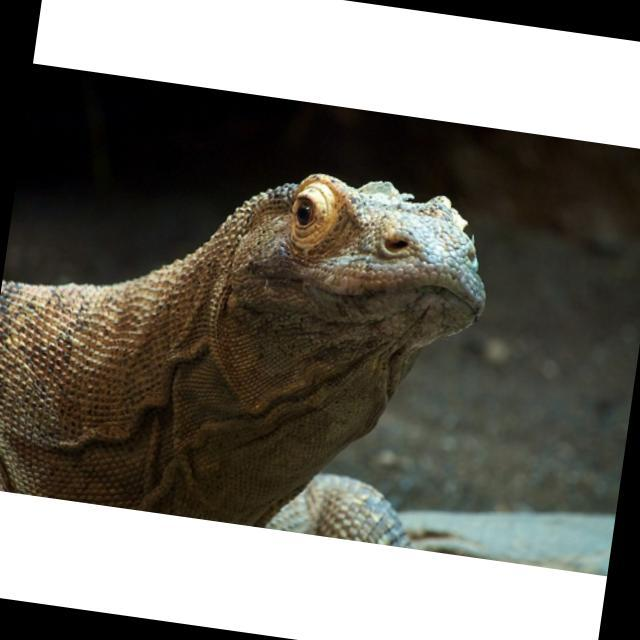KomodoDragon: (0, 129, 499, 551)
